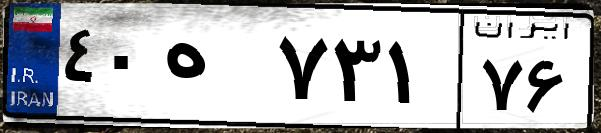0: (110, 28, 158, 98)
1: (385, 28, 445, 110)
3: (330, 28, 385, 110)
4: (57, 26, 110, 100)
6: (525, 38, 570, 115)
7: (270, 28, 330, 110), (475, 38, 525, 113)
ه: (158, 20, 270, 120)
